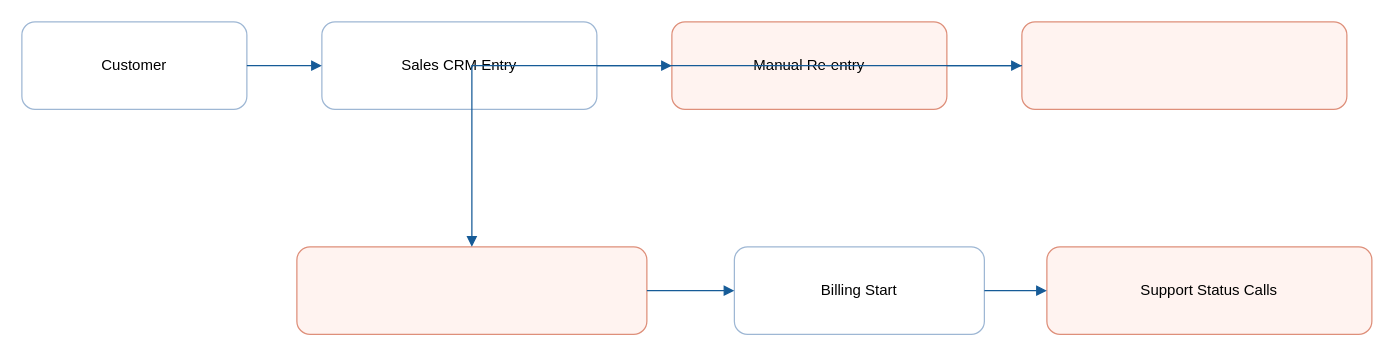
Some shapes in this 1394 by 356 pixel diagram are drawn without their labels. The shapes that lost their labels are listed below. From the top down, each one's box as (x1, y1, x2, y2) in pixels, then its label:
(1021, 21, 1347, 109): Validation Follow-up
(296, 246, 647, 334): Batch Activation Queue
